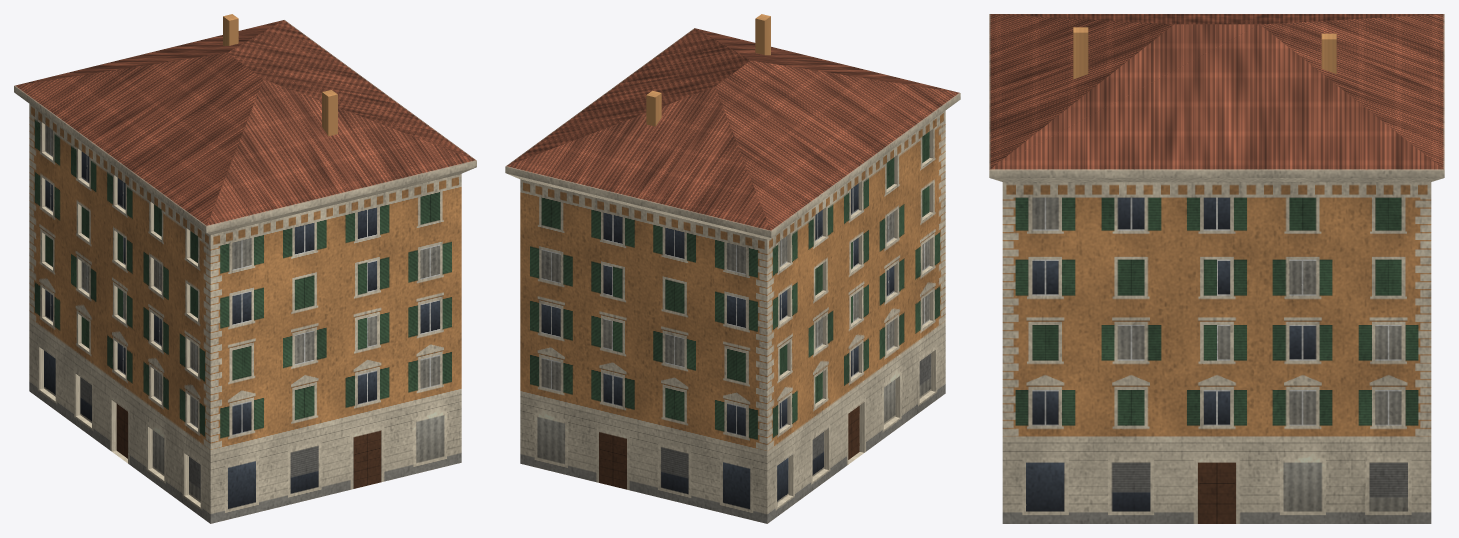
Rendered from SM_Fondale_Palazzo_C_LOD1.fbx.
The picture shows the model from 3 angles, left to right: view 1: azimuth 30°, elevation 25°; view 2: azimuth 150°, elevation 25°; view 3: azimuth 270°, elevation 25°; orthographic projection. The views are drawn at different scales.
Visible parts, largest first — view 1: SM_Fondale_Palazzo_C_LOD1; view 2: SM_Fondale_Palazzo_C_LOD1; view 3: SM_Fondale_Palazzo_C_LOD1.
Part boxes in pixels (x1,y1,x2,y2): SM_Fondale_Palazzo_C_LOD1: (14,14,476,523); SM_Fondale_Palazzo_C_LOD1: (505,14,960,523); SM_Fondale_Palazzo_C_LOD1: (989,14,1444,523).
Size of the model in its own units: 1724 by 2124 by 2249.
1 material, 1 textured.
